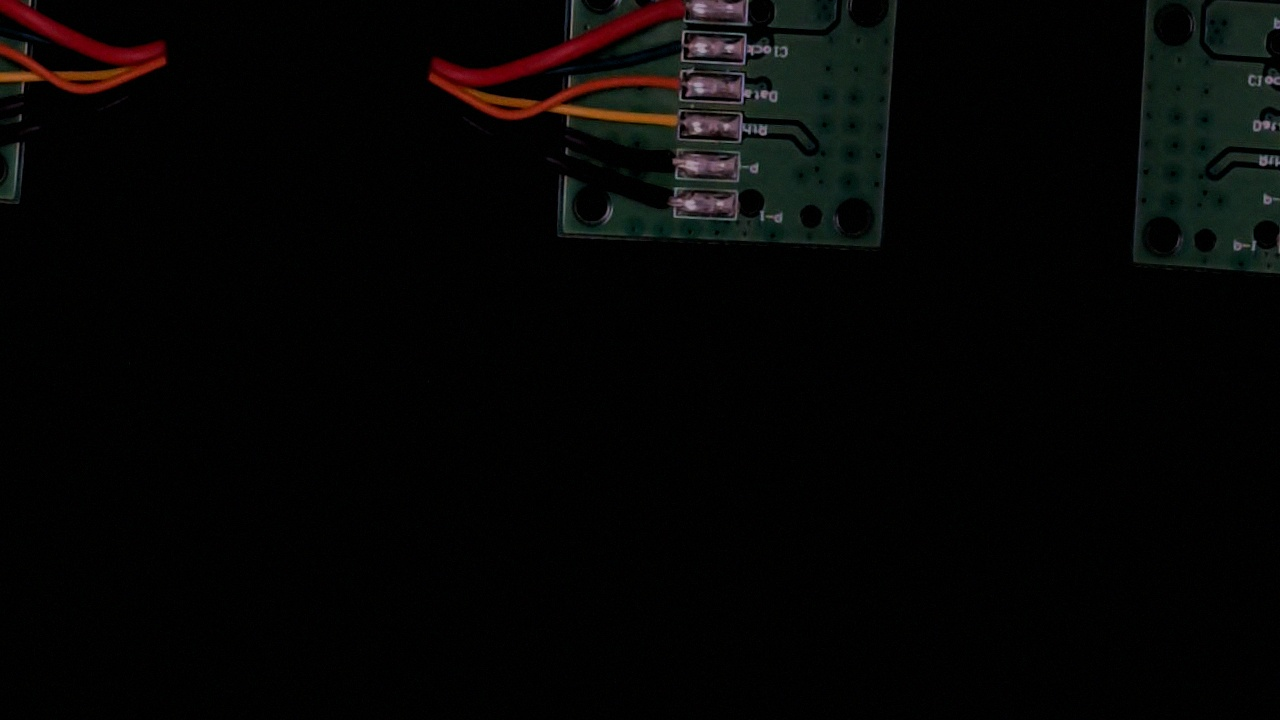Black: (621, 143, 696, 181)
Black1: (627, 185, 695, 222)
Green: (644, 27, 707, 64)
Orange: (630, 66, 704, 102)
Red: (634, 0, 706, 26)
Yellow: (623, 107, 699, 145)
